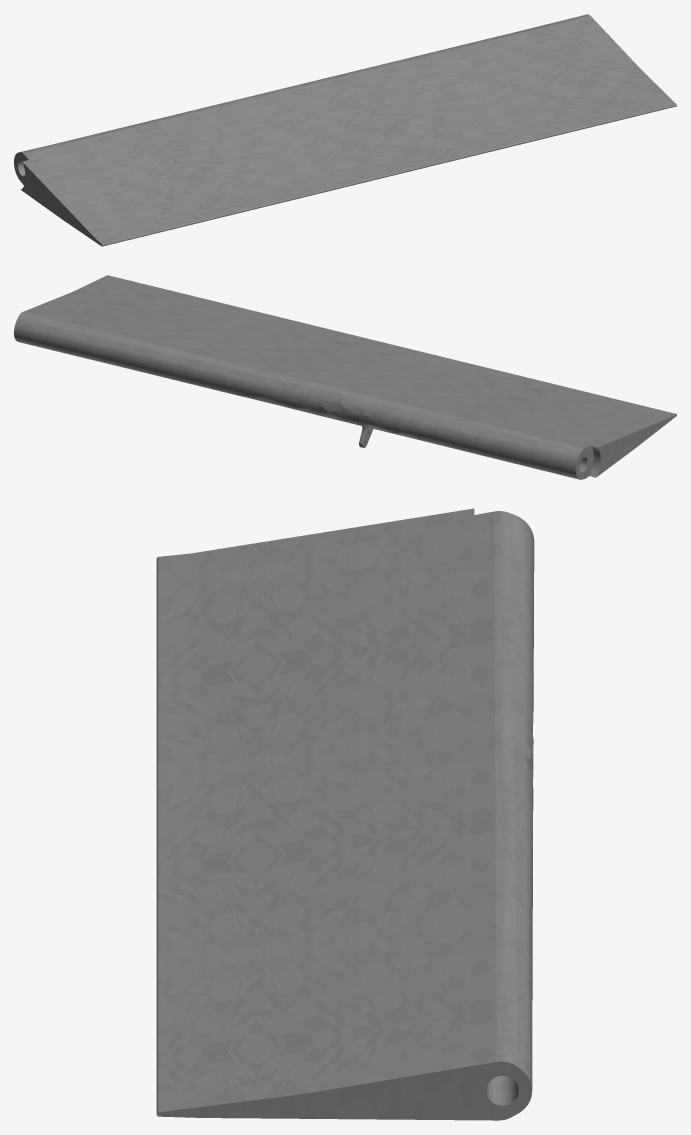
Rendered from elevon_right.glb.
3 views of the same model, one above another, from view 1: azimuth 30°, elevation 25°; view 2: azimuth 150°, elevation 25°; view 3: azimuth 270°, elevation 25° (orthographic). The views are drawn at different scales.
Visible parts, largest first — view 1: Elevon_L2_R, Elevon_L1_R; view 2: Elevon_L2_R, Elevon_L1_R; view 3: Elevon_L2_R, Elevon_L1_R.
Boxes of the visible parts, x1,y1,x2,y2 form: Elevon_L2_R: [247, 14, 676, 189]; Elevon_L1_R: [14, 97, 335, 246]; Elevon_L2_R: [14, 275, 444, 447]; Elevon_L1_R: [351, 357, 676, 479]; Elevon_L2_R: [156, 731, 533, 1120]; Elevon_L1_R: [156, 508, 534, 783].
Size of the model in its own units: 0.418 by 0.0395 by 0.1201.
1 material, 1 textured.
